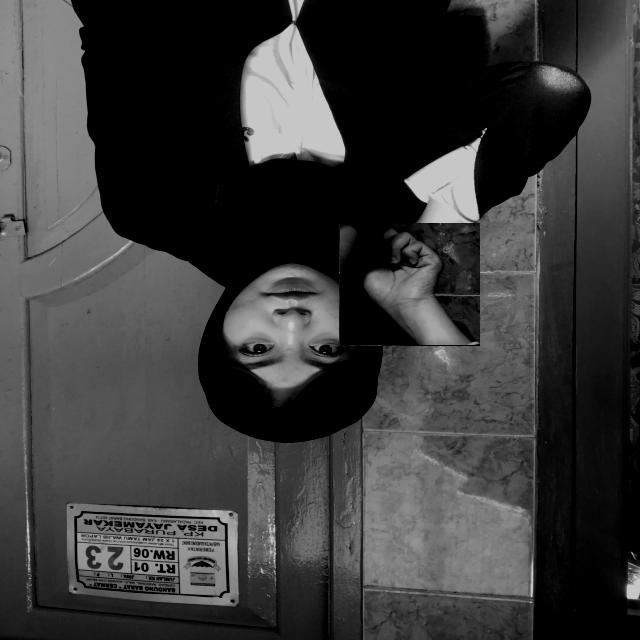ibu: (339, 223, 480, 346)
